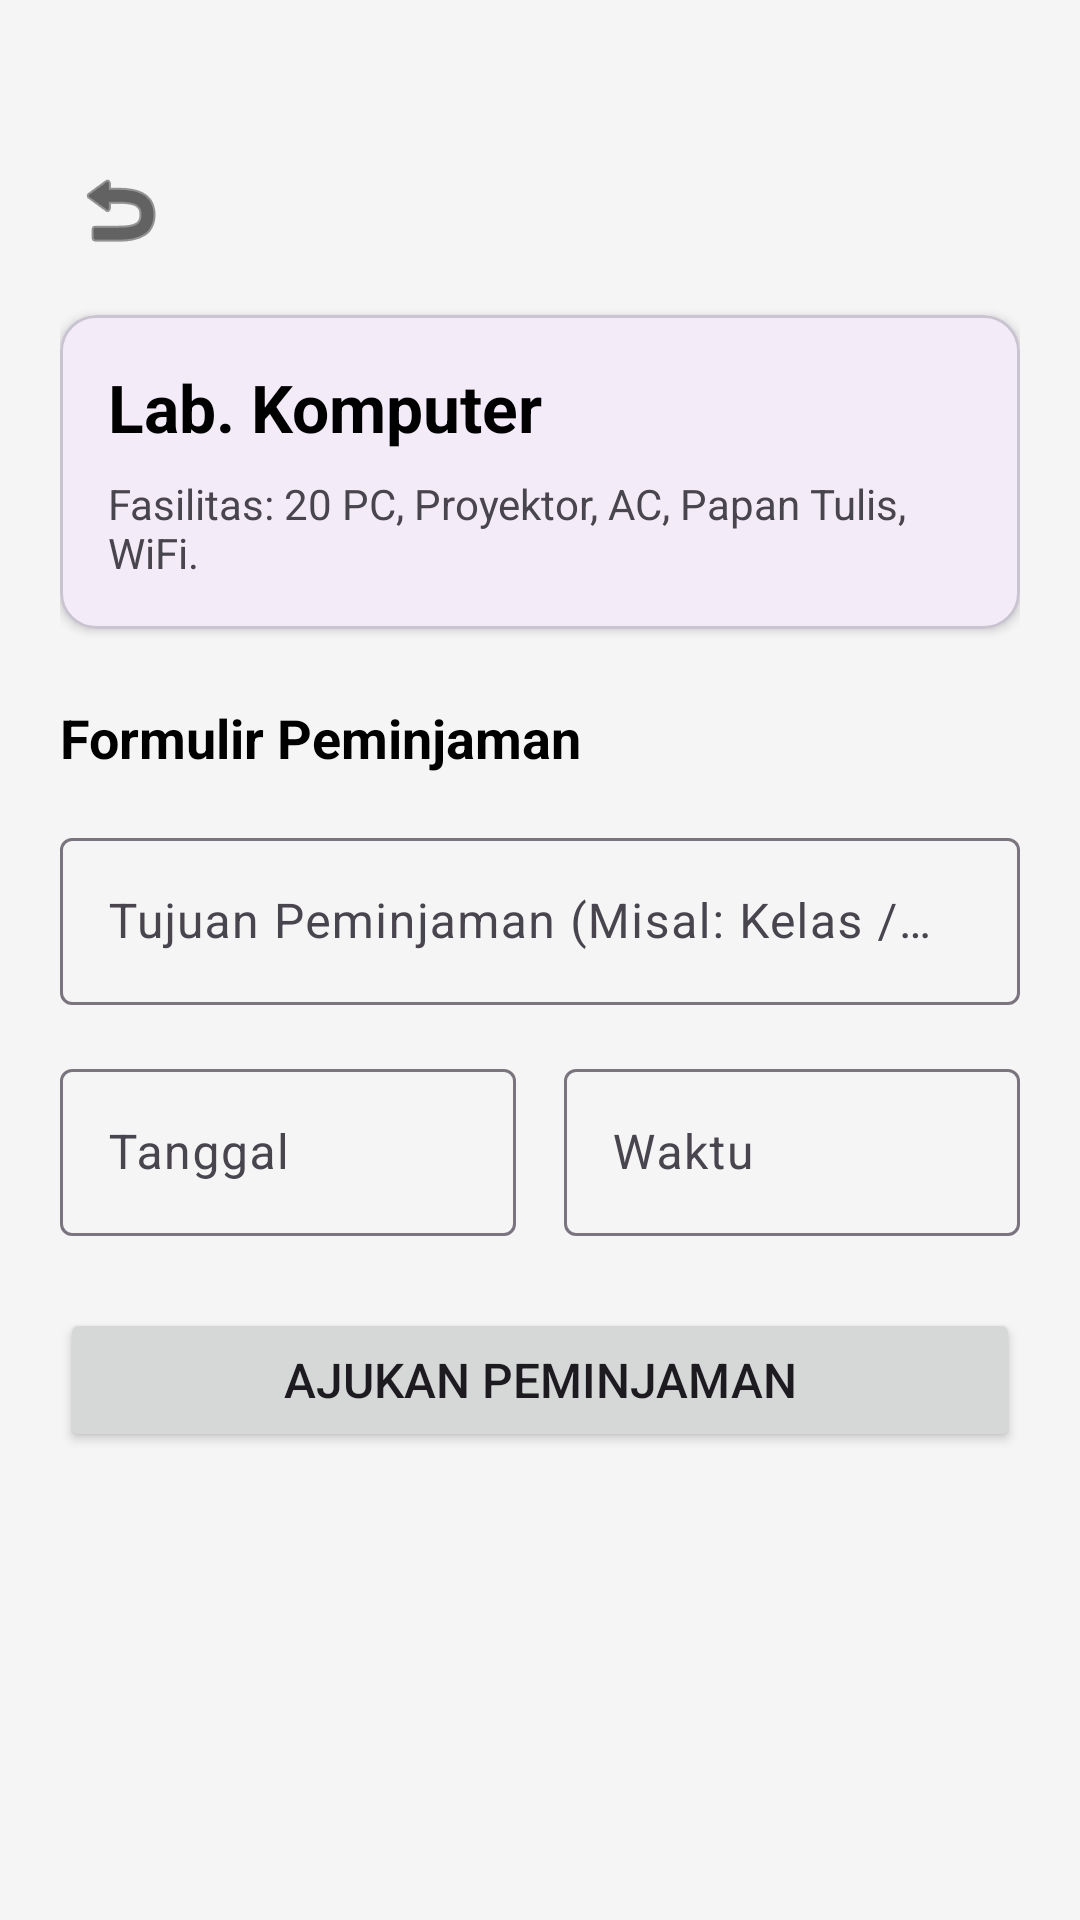

Icon bounding boxes for this 1080px x 1920px phone screenshot, format [left=x1, top=y1, right=x2, bottom=y2]:
revert: [left=87, top=179, right=156, bottom=242]
